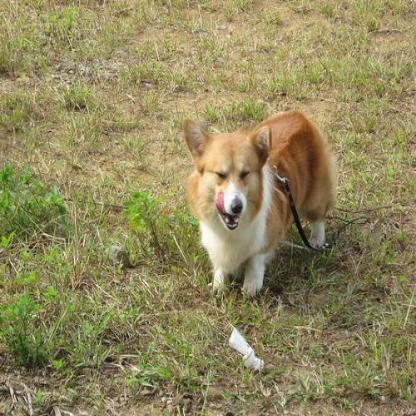Pembroke: (179, 107, 333, 298)
